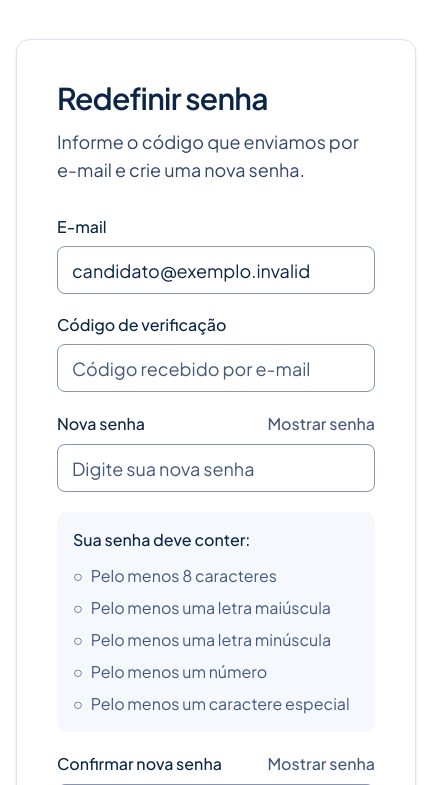
Test: ResetPasswordPage › shows the expired-code screen when the API rejects the code
This screenshot has width=433, height=785.
Type "123456" into the field labelled "Código de verificação" at (216, 368), box x1=57 y1=344 x2=375 y2=392
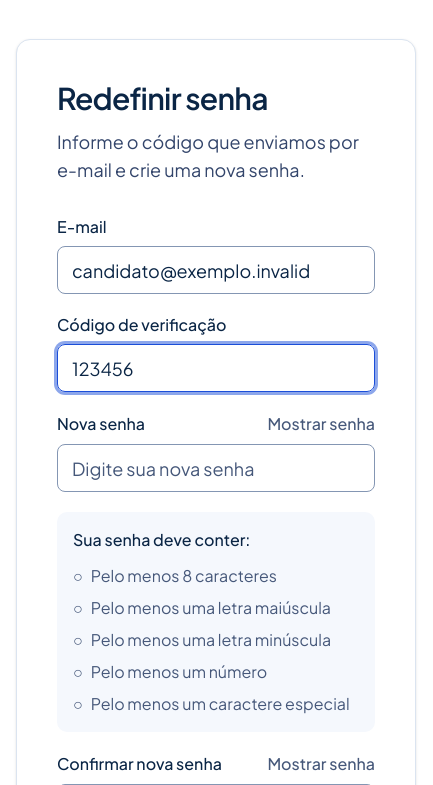
Type "NovaSenha!42" into the password field labelled "Nova senha" at (216, 468), box x1=57 y1=444 x2=375 y2=492
(page scrolled)
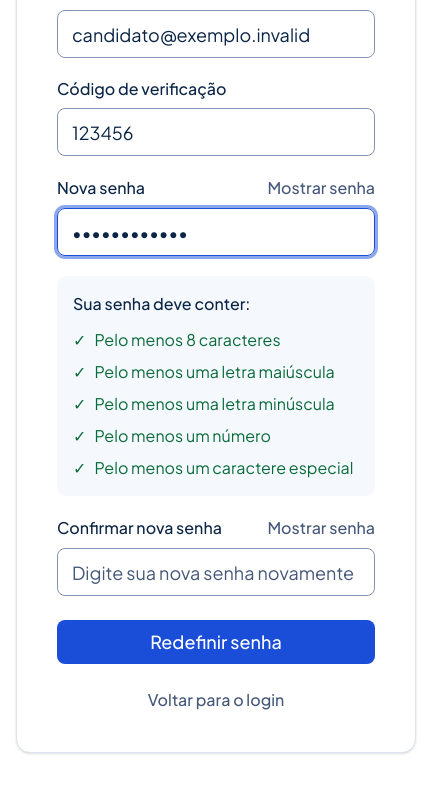
Type "NovaSenha!42" into the password field labelled "Confirmar nova senha" at (216, 572), box x1=57 y1=548 x2=375 y2=596
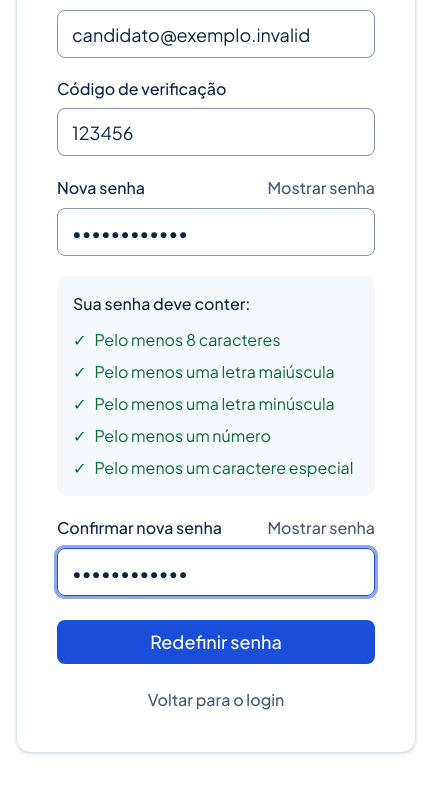
Click the button "Redefinir senha" at (216, 642), box x1=57 y1=620 x2=375 y2=664
(page scrolled)
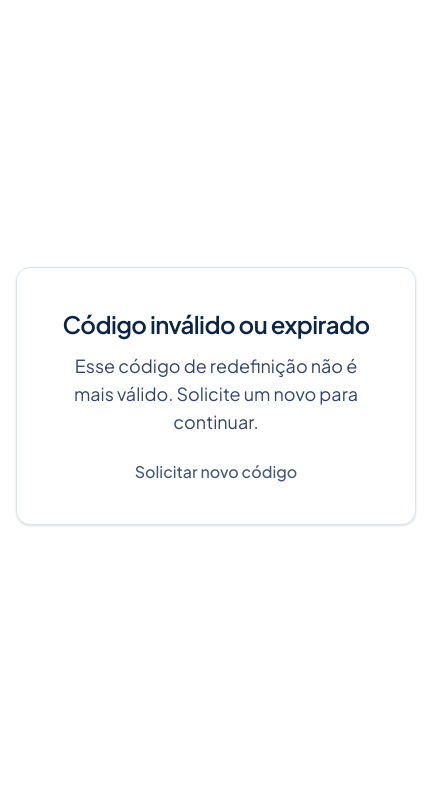
Now the heading "Código inválido ou expirado" is shown, box x1=57 y1=308 x2=375 y2=340
